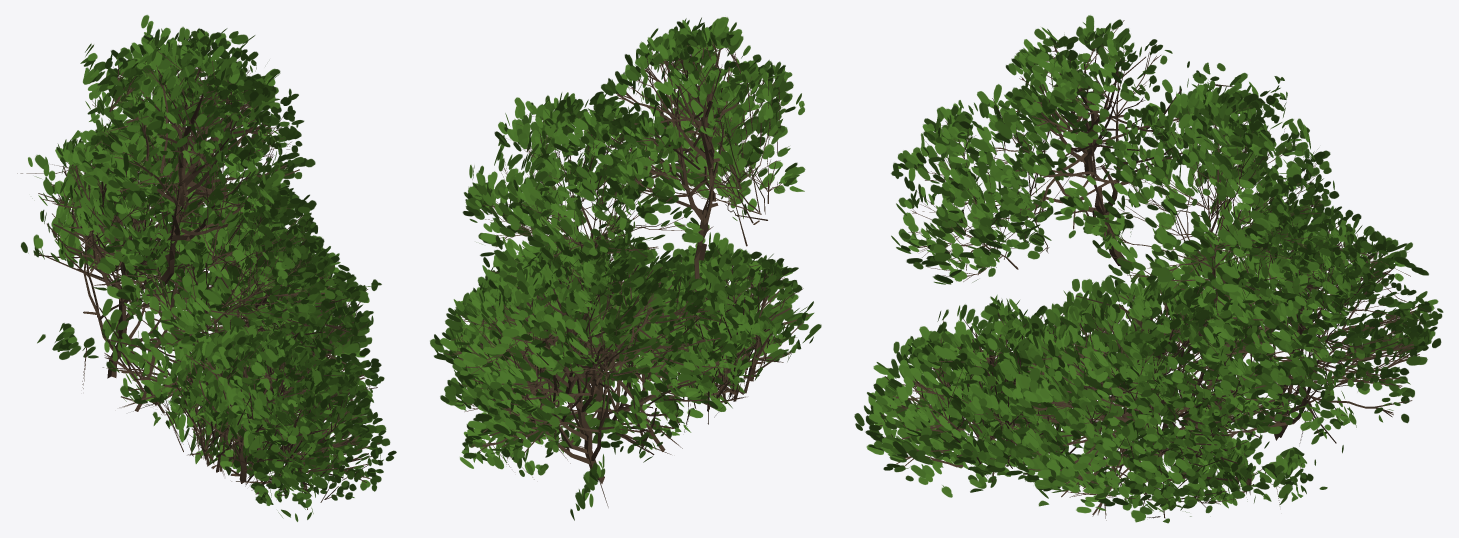
The picture shows the model from 3 angles, left to right: view 1: azimuth 30°, elevation 25°; view 2: azimuth 150°, elevation 25°; view 3: azimuth 270°, elevation 25°; orthographic projection. The views are drawn at different scales.
Visible parts, largest first — view 1: oak 01.001_trunk_Mat.001_0.440; view 2: oak 01.001_trunk_Mat.001_0.440; view 3: oak 01.001_trunk_Mat.001_0.440.
Boxes of the visible parts, x1=… form: oak 01.001_trunk_Mat.001_0.440: x1=17, y1=15, x2=396, y2=521; oak 01.001_trunk_Mat.001_0.440: x1=430, y1=17, x2=821, y2=520; oak 01.001_trunk_Mat.001_0.440: x1=854, y1=15, x2=1443, y2=523.
Size of the model in its own units: 2.08 by 3.46 by 4.23.
2 materials, 1 textured.
